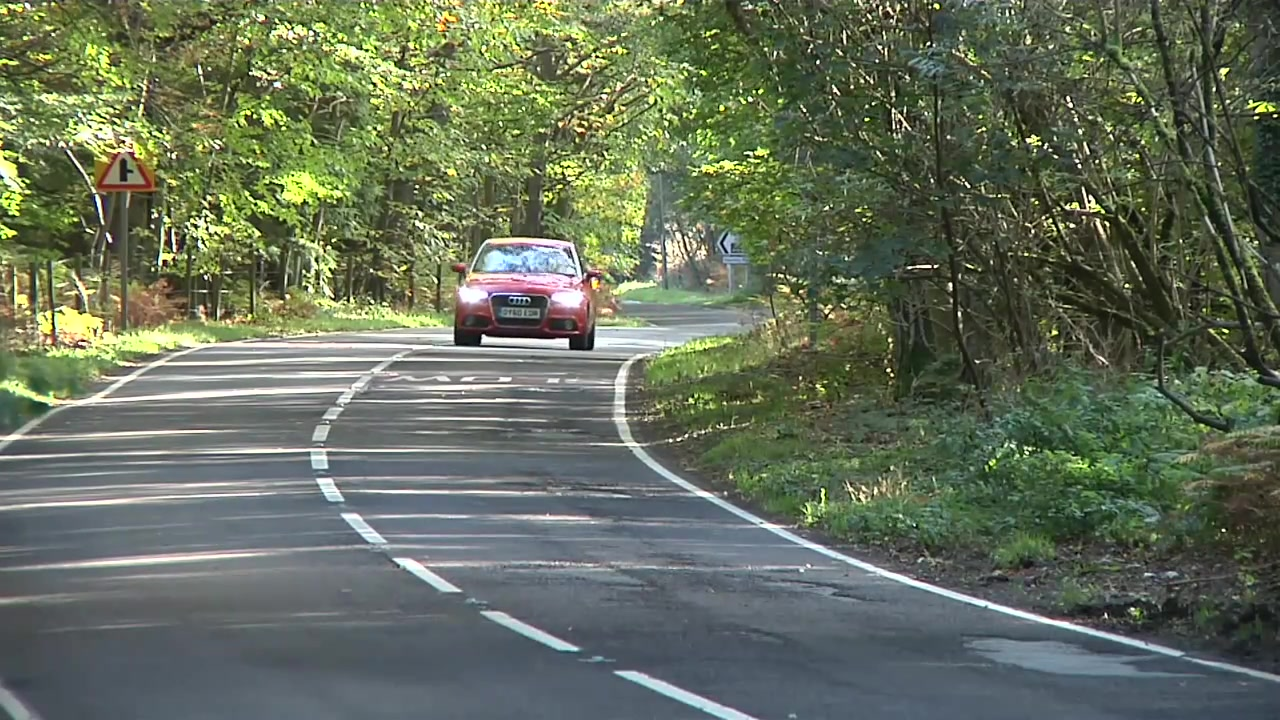car: (447, 232, 607, 351)
